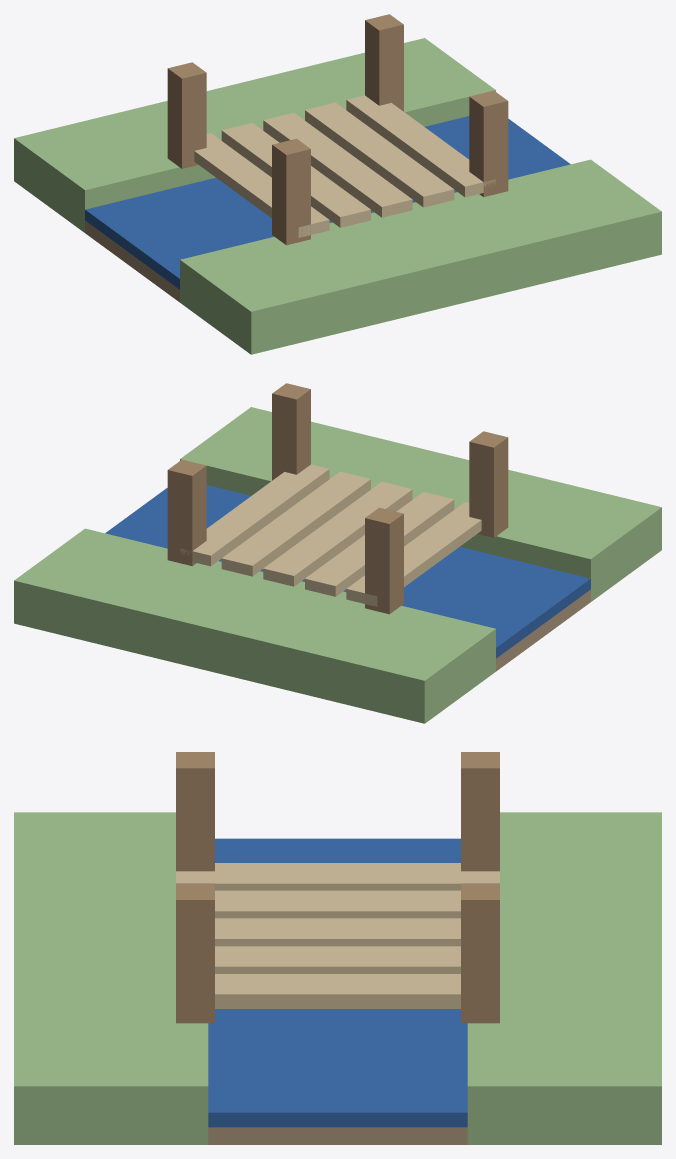
Rendered from river_bridge.glb.
The picture shows the model from 3 angles, top to bottom: view 1: azimuth 30°, elevation 25°; view 2: azimuth 150°, elevation 25°; view 3: azimuth 270°, elevation 25°; orthographic projection. The views are drawn at different scales.
Visible parts, largest first — view 1: river_bridge_grass_left, river_bridge_grass_right, river_bridge, river_bridge_water, river_bridge_post.001, river_bridge_post, river_bridge_post.002, river_bridge_post.003, river_bridge_bed; view 2: river_bridge_grass_right, river_bridge_grass_left, river_bridge, river_bridge_water, river_bridge_post, river_bridge_post.003, river_bridge_post.001, river_bridge_post.002, river_bridge_bed; view 3: river_bridge_grass_left, river_bridge_grass_right, river_bridge, river_bridge_water, river_bridge_post.002, river_bridge_post.003, river_bridge_bed, river_bridge_post, river_bridge_post.001.
Boxes of the visible parts, left/top/right/bottom form: river_bridge_grass_left: left=180, top=159, right=661, bottom=354; river_bridge_grass_right: left=14, top=38, right=495, bottom=232; river_bridge: left=194, top=95, right=495, bottom=237; river_bridge_water: left=85, top=116, right=570, bottom=289; river_bridge_post.001: left=167, top=62, right=206, bottom=168; river_bridge_post: left=272, top=138, right=310, bottom=245; river_bridge_post.002: left=469, top=90, right=508, bottom=197; river_bridge_post.003: left=365, top=14, right=403, bottom=111; river_bridge_bed: left=85, top=220, right=179, bottom=302; river_bridge_grass_right: left=14, top=528, right=495, bottom=723; river_bridge_grass_left: left=180, top=407, right=661, bottom=601; river_bridge: left=180, top=464, right=481, bottom=606; river_bridge_water: left=105, top=485, right=590, bottom=658; river_bridge_post: left=469, top=431, right=508, bottom=537; river_bridge_post.003: left=167, top=459, right=206, bottom=566; river_bridge_post.001: left=365, top=507, right=403, bottom=614; river_bridge_post.002: left=272, top=383, right=310, bottom=480; river_bridge_bed: left=496, top=589, right=590, bottom=671; river_bridge_grass_left: left=14, top=812, right=208, bottom=1144; river_bridge_grass_right: left=467, top=812, right=661, bottom=1144; river_bridge: left=176, top=863, right=499, bottom=1008; river_bridge_water: left=208, top=838, right=467, bottom=1127; river_bridge_post.002: left=176, top=883, right=214, bottom=1023; river_bridge_post.003: left=461, top=883, right=499, bottom=1023; river_bridge_bed: left=208, top=1127, right=467, bottom=1144; river_bridge_post: left=176, top=752, right=214, bottom=871; river_bridge_post.001: left=461, top=752, right=499, bottom=871.
Size of the model in its own units: 2 by 0.62 by 2.
